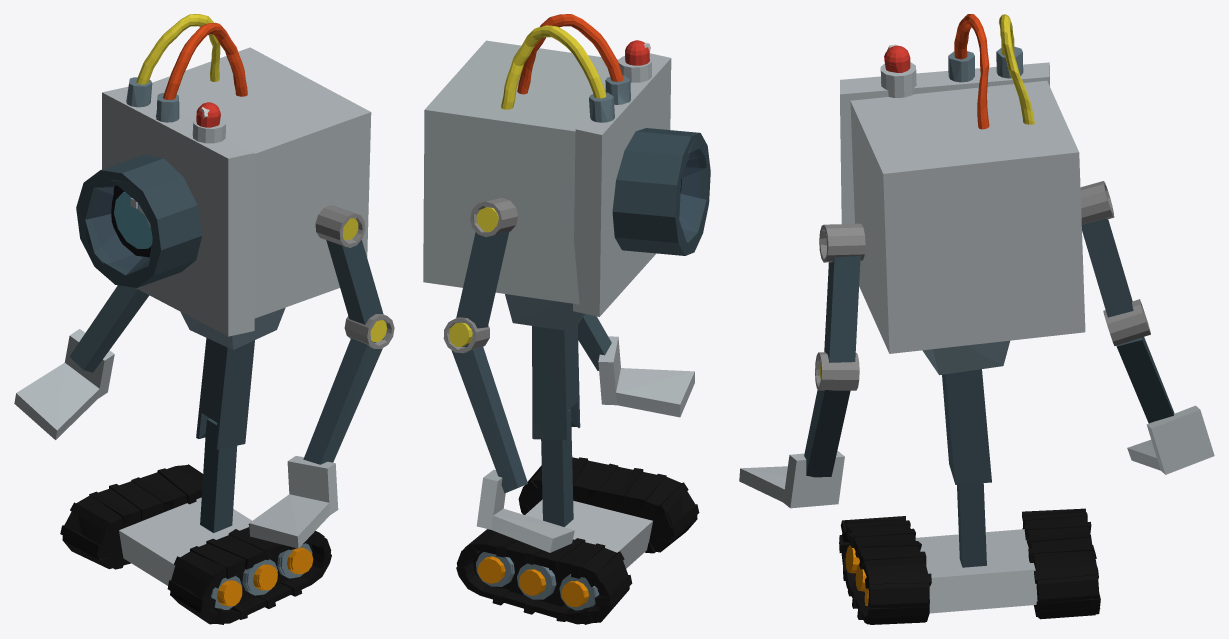
File: asset.gltf
The picture shows the model from 3 angles, left to right: view 1: azimuth 30°, elevation 25°; view 2: azimuth 150°, elevation 25°; view 3: azimuth 270°, elevation 25°; orthographic projection. The views are drawn at different scales.
Visible parts, largest first — view 1: node_MeshObject-935860800-PolyPaper15, node_MeshObject246786112-PolyPaper9; view 2: node_MeshObject-935860800-PolyPaper15, node_MeshObject246786112-PolyPaper9; view 3: node_MeshObject-935860800-PolyPaper15, node_MeshObject246786112-PolyPaper9.
Part boxes in pixels (left/top/right/bottom): node_MeshObject-935860800-PolyPaper15: left=76, top=14, right=371, bottom=349; node_MeshObject246786112-PolyPaper9: left=14, top=205, right=394, bottom=624; node_MeshObject-935860800-PolyPaper15: left=423, top=14, right=710, bottom=331; node_MeshObject246786112-PolyPaper9: left=443, top=198, right=699, bottom=624; node_MeshObject-935860800-PolyPaper15: left=840, top=14, right=1085, bottom=375; node_MeshObject246786112-PolyPaper9: left=739, top=181, right=1214, bottom=624.
Bounding box in the file's own units: 0.427 × 0.9302 × 0.6771.
